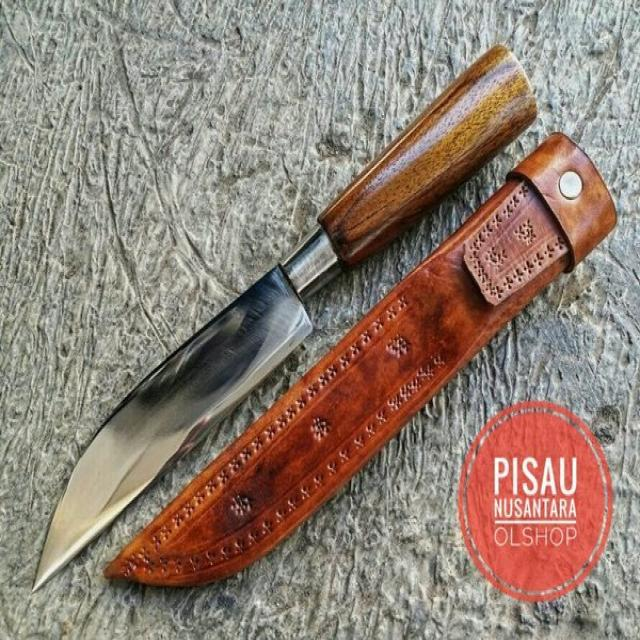Pisau: (27, 22, 553, 612)
